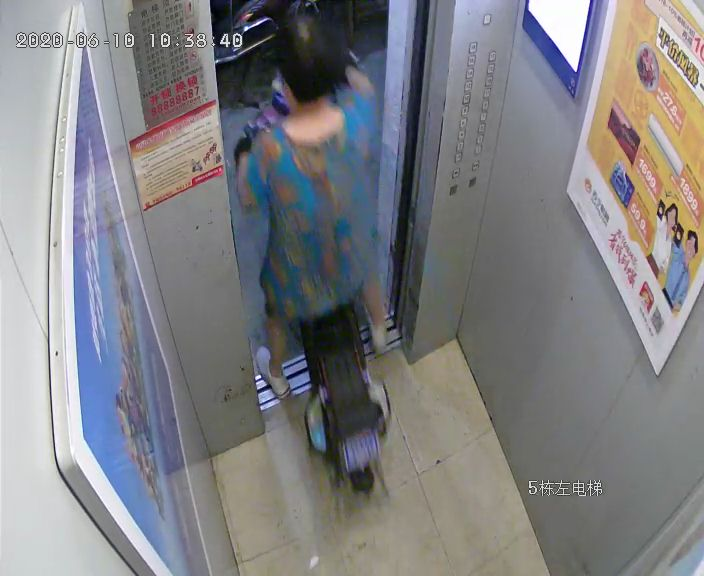Electric-bicycle: (238, 70, 397, 515), (214, 1, 283, 64)
